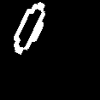chain: (14, 2, 44, 53)
